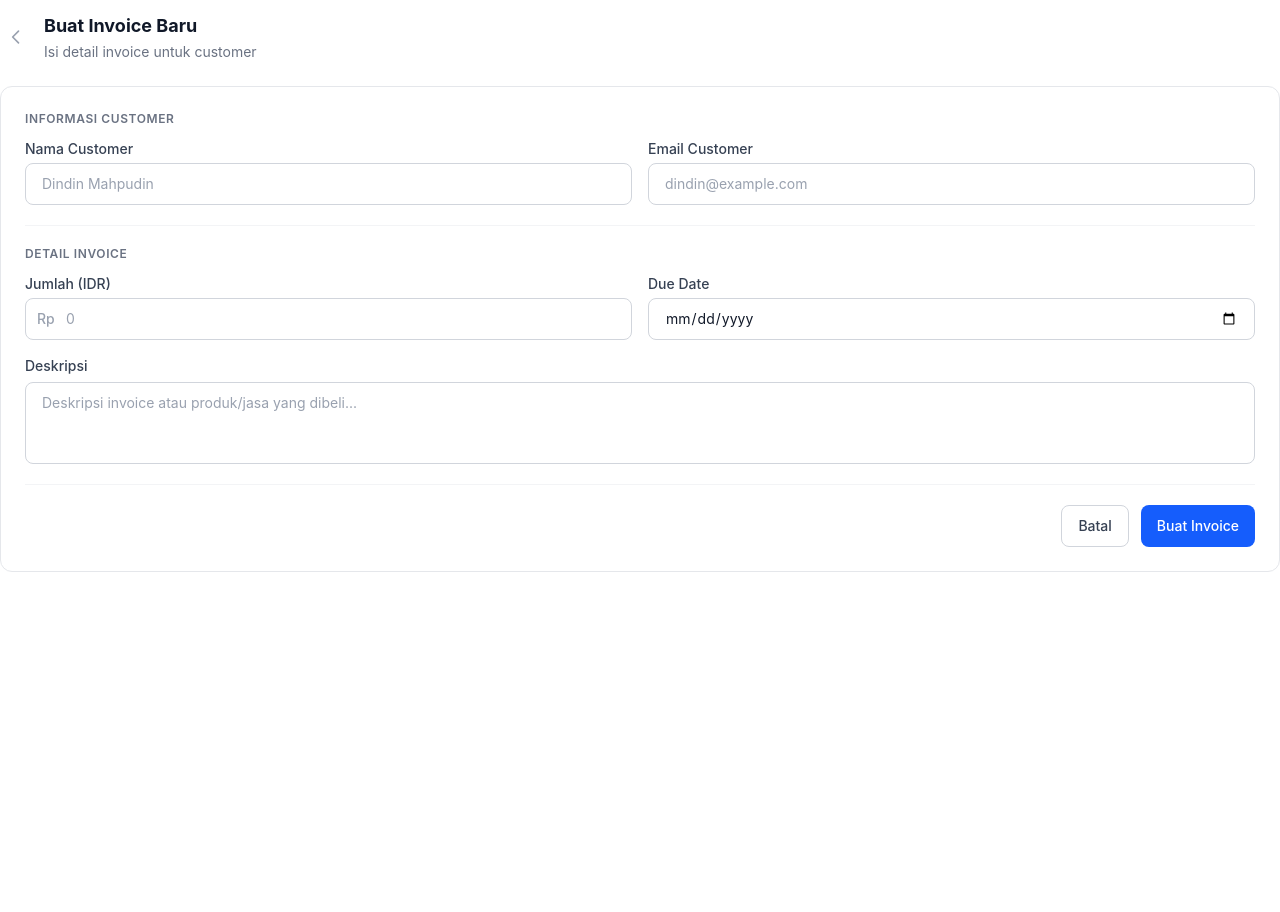
Test: CreateInvoicePage › shows validation errors on empty submit
Click the button "Buat Invoice": (1198, 526) [1141,505,1255,547]
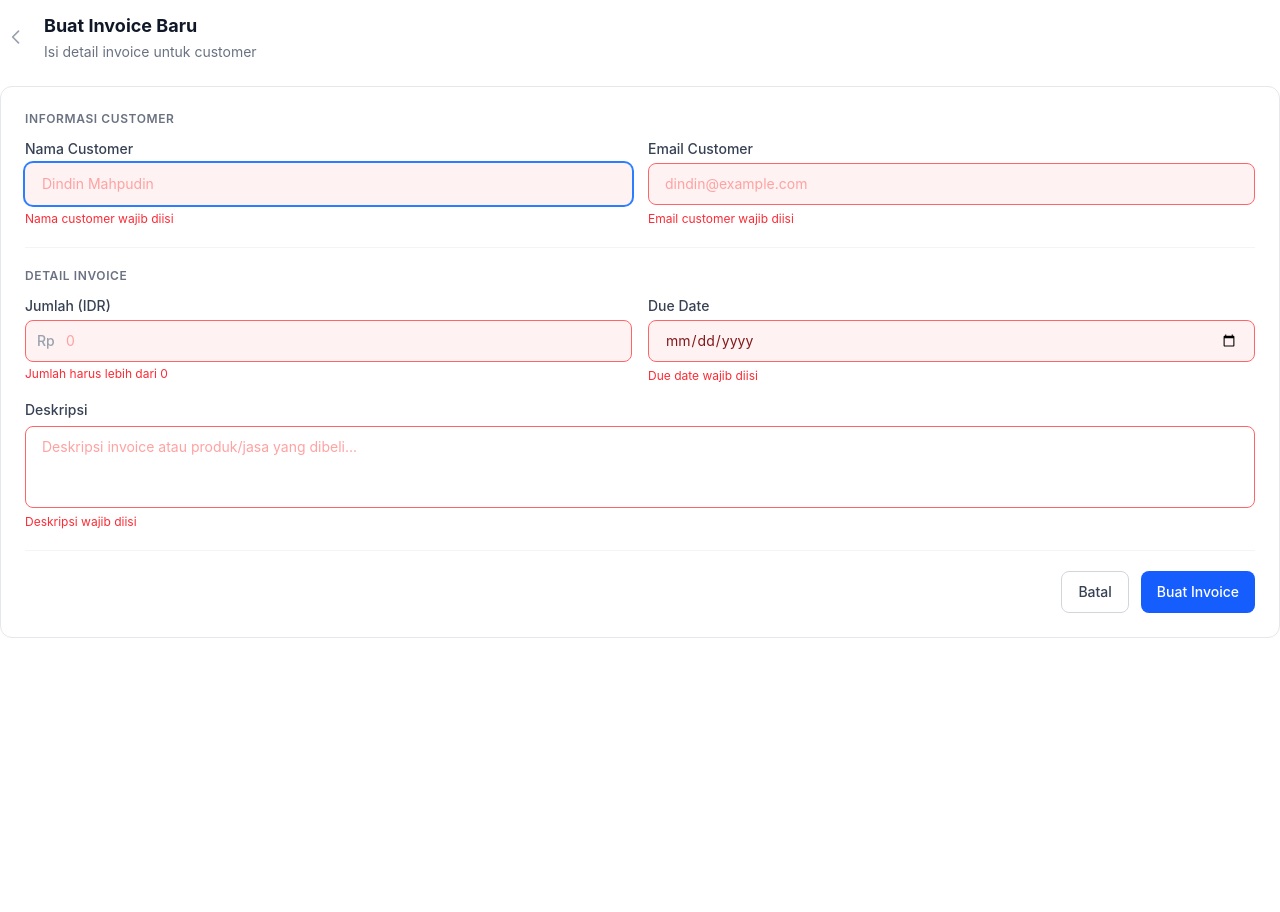
Expected: the text "Nama customer wajib diisi" is shown, [25,211,174,226]
Expected: the text "Email customer wajib diisi" is shown, [648,211,794,226]
Expected: the text "Deskripsi wajib diisi" is shown, [25,514,137,529]
